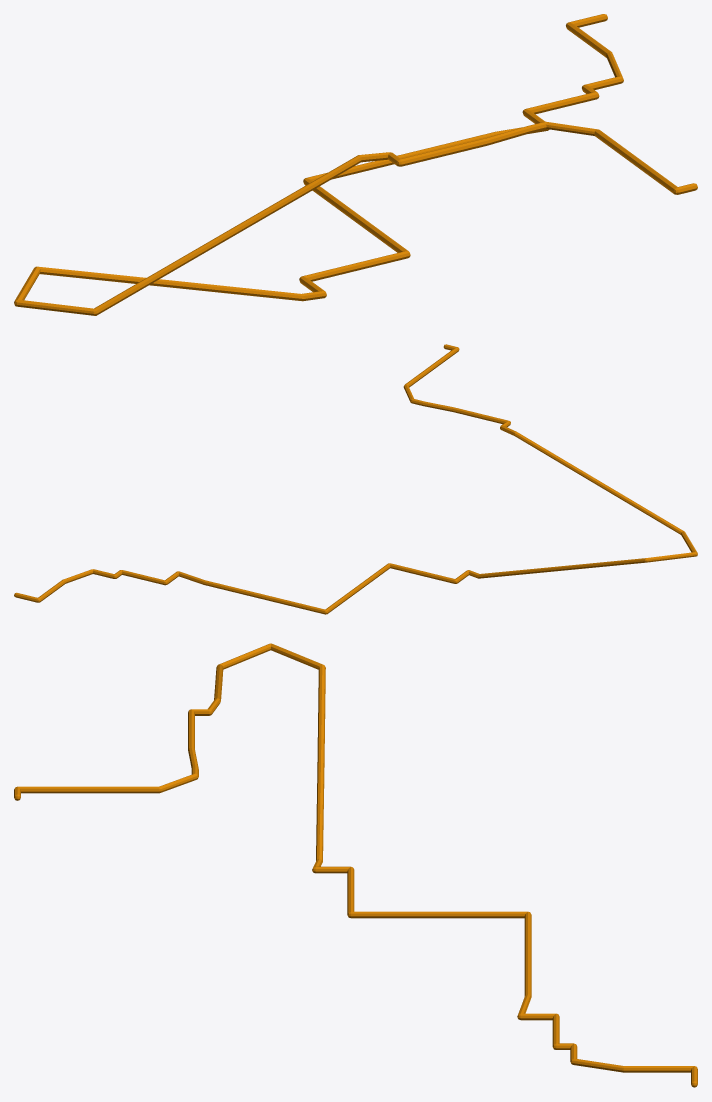
The picture shows the model from 3 angles, top to bottom: view 1: azimuth 30°, elevation 25°; view 2: azimuth 150°, elevation 25°; view 3: azimuth 270°, elevation 25°; orthographic projection. The views are drawn at different scales.
Bounding box in the file's own units: 2406 × 520 × 1931.
